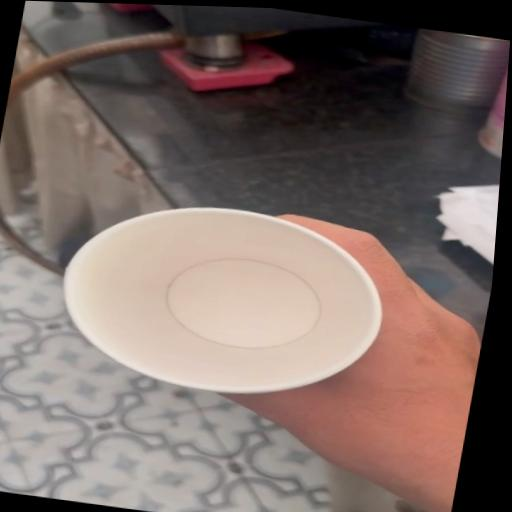Ly_giay: (66, 208, 382, 393)
